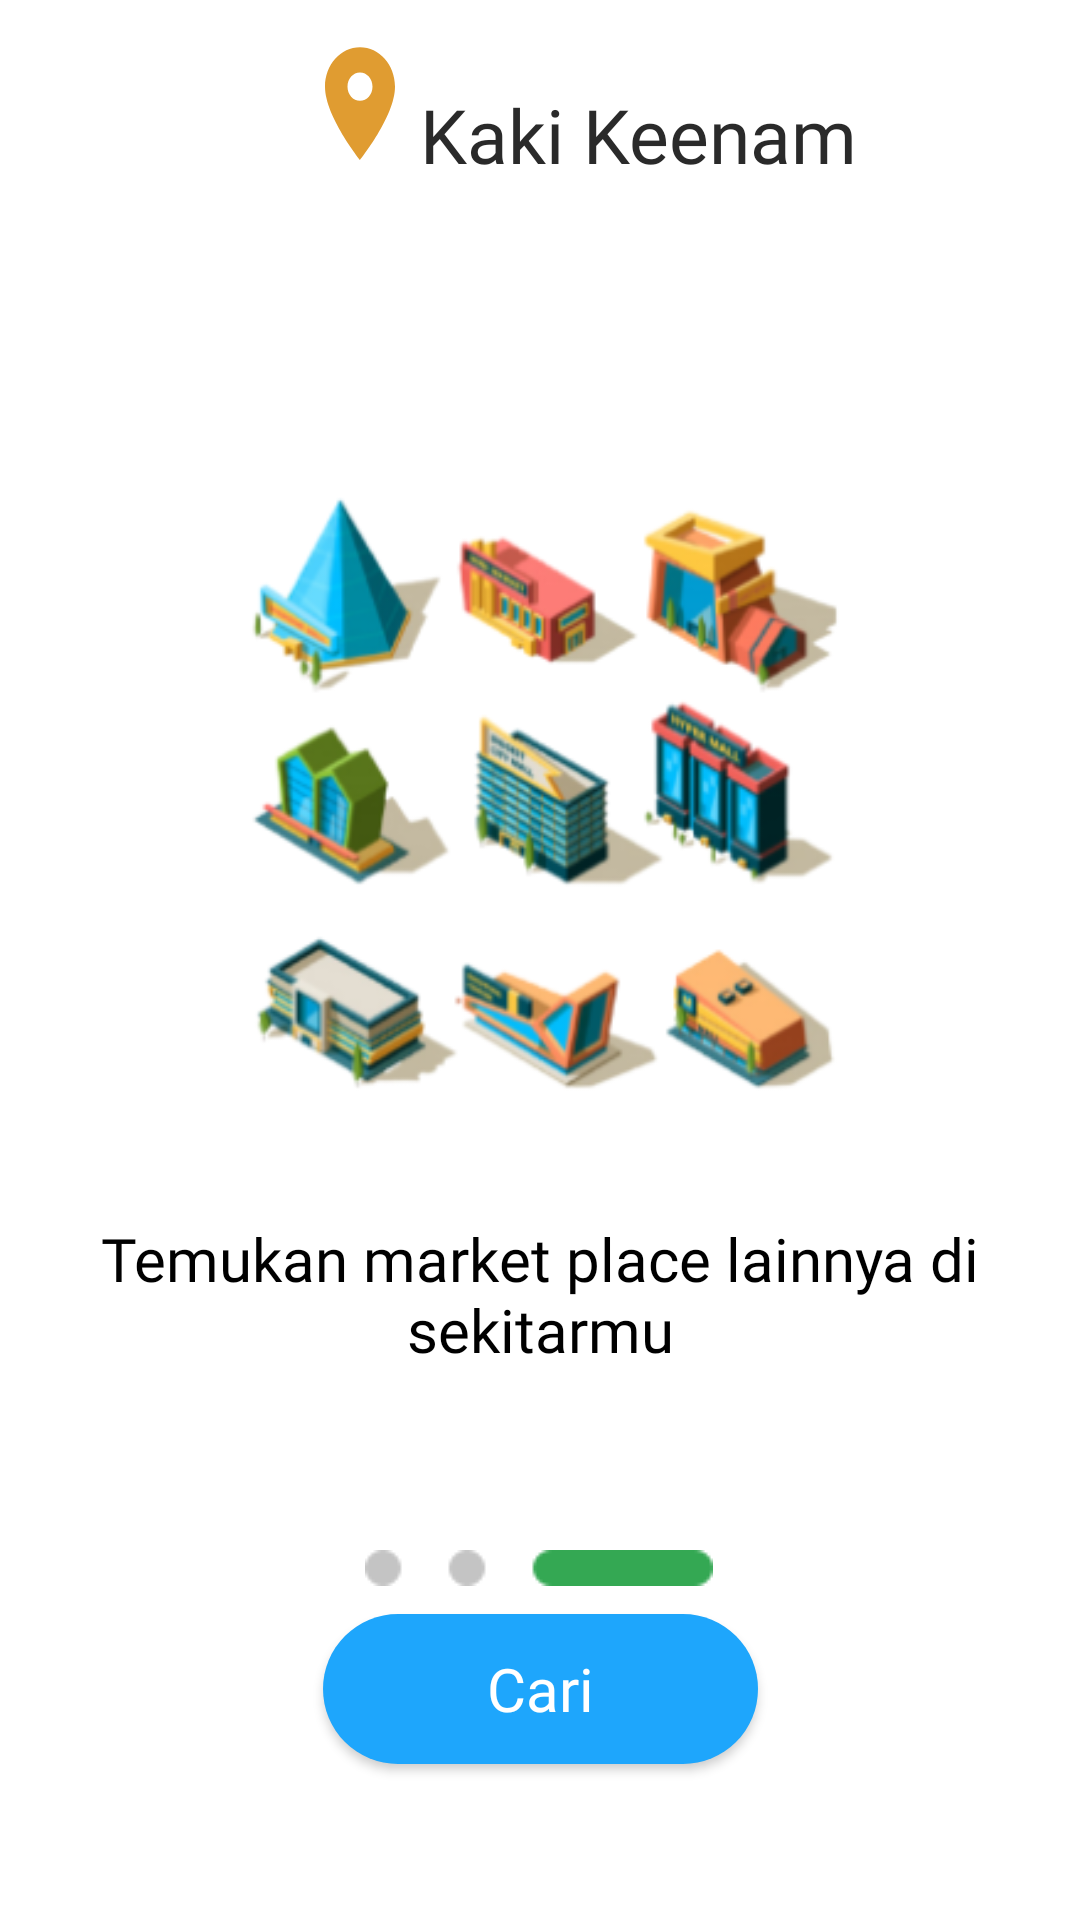

Point at icon controls on the screen. Image size 1080px x 1920px, points as point (x, y).
location: point (360, 103)
